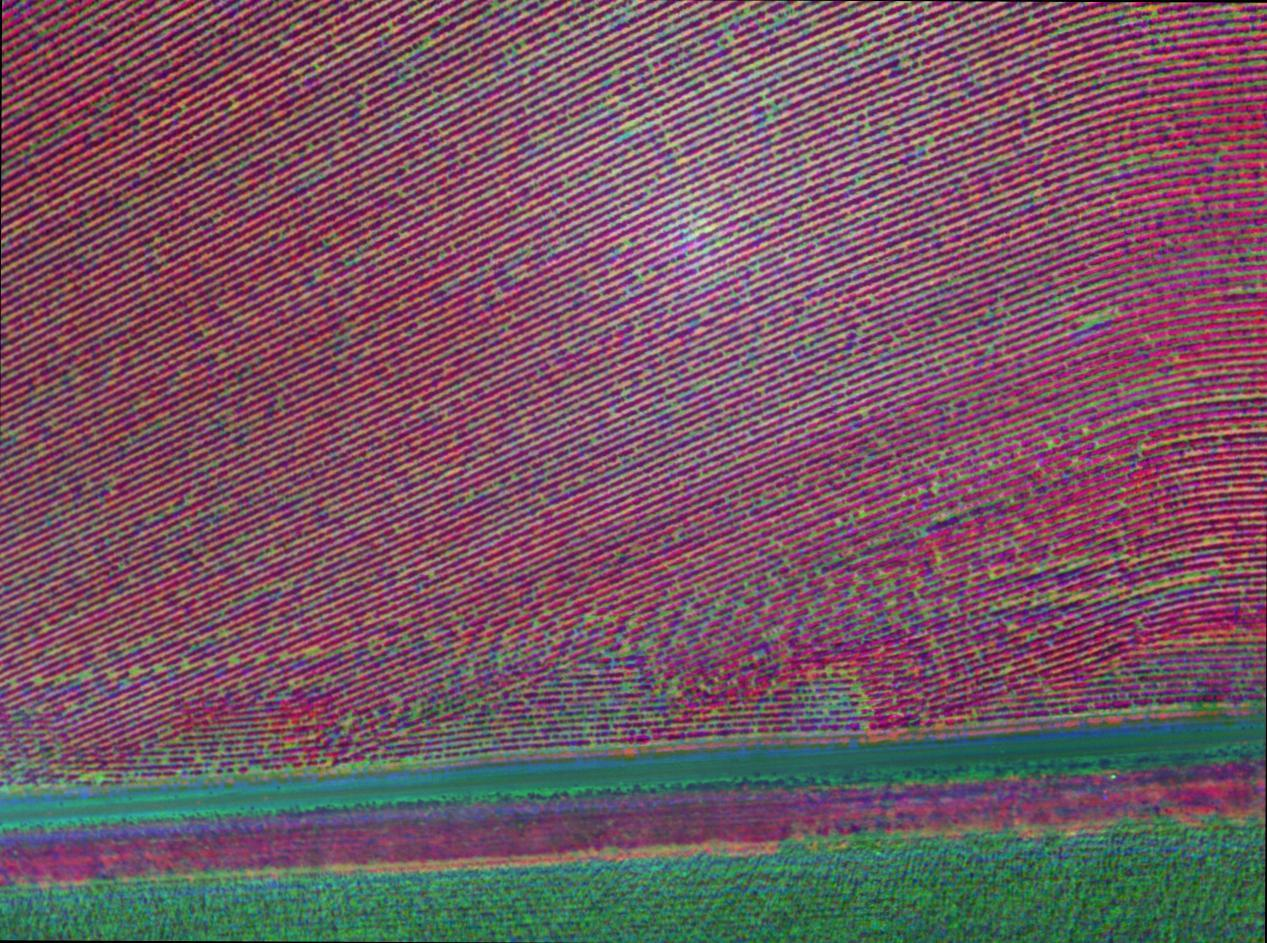dc: (624, 241, 629, 246), (1204, 540, 1209, 544), (630, 623, 634, 628), (804, 340, 808, 344), (156, 239, 159, 242), (991, 465, 994, 468)
